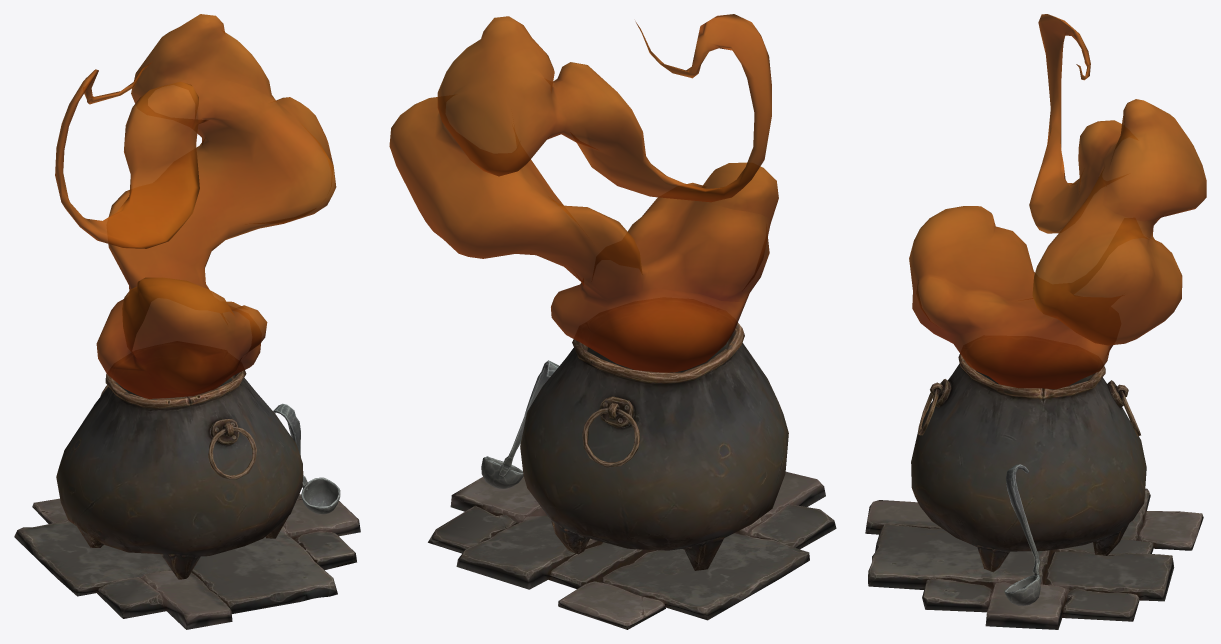
File: cauldron.glb
The picture shows the model from 3 angles, left to right: view 1: azimuth 30°, elevation 25°; view 2: azimuth 150°, elevation 25°; view 3: azimuth 270°, elevation 25°; orthographic projection. The views are drawn at different scales.
Visible parts, largest first — view 1: defaultMaterial (×4); view 2: defaultMaterial (×4); view 3: defaultMaterial (×4).
Boxes of the visible parts, x1,y1,x2,y2 form: defaultMaterial (×4): (14,14,360,629); defaultMaterial (×4): (389,14,836,629); defaultMaterial (×4): (865,14,1206,629).
Bounding box in the file's own units: 1.35 × 2.08 × 1.3.
Materials: 4 (4 with a texture image).
